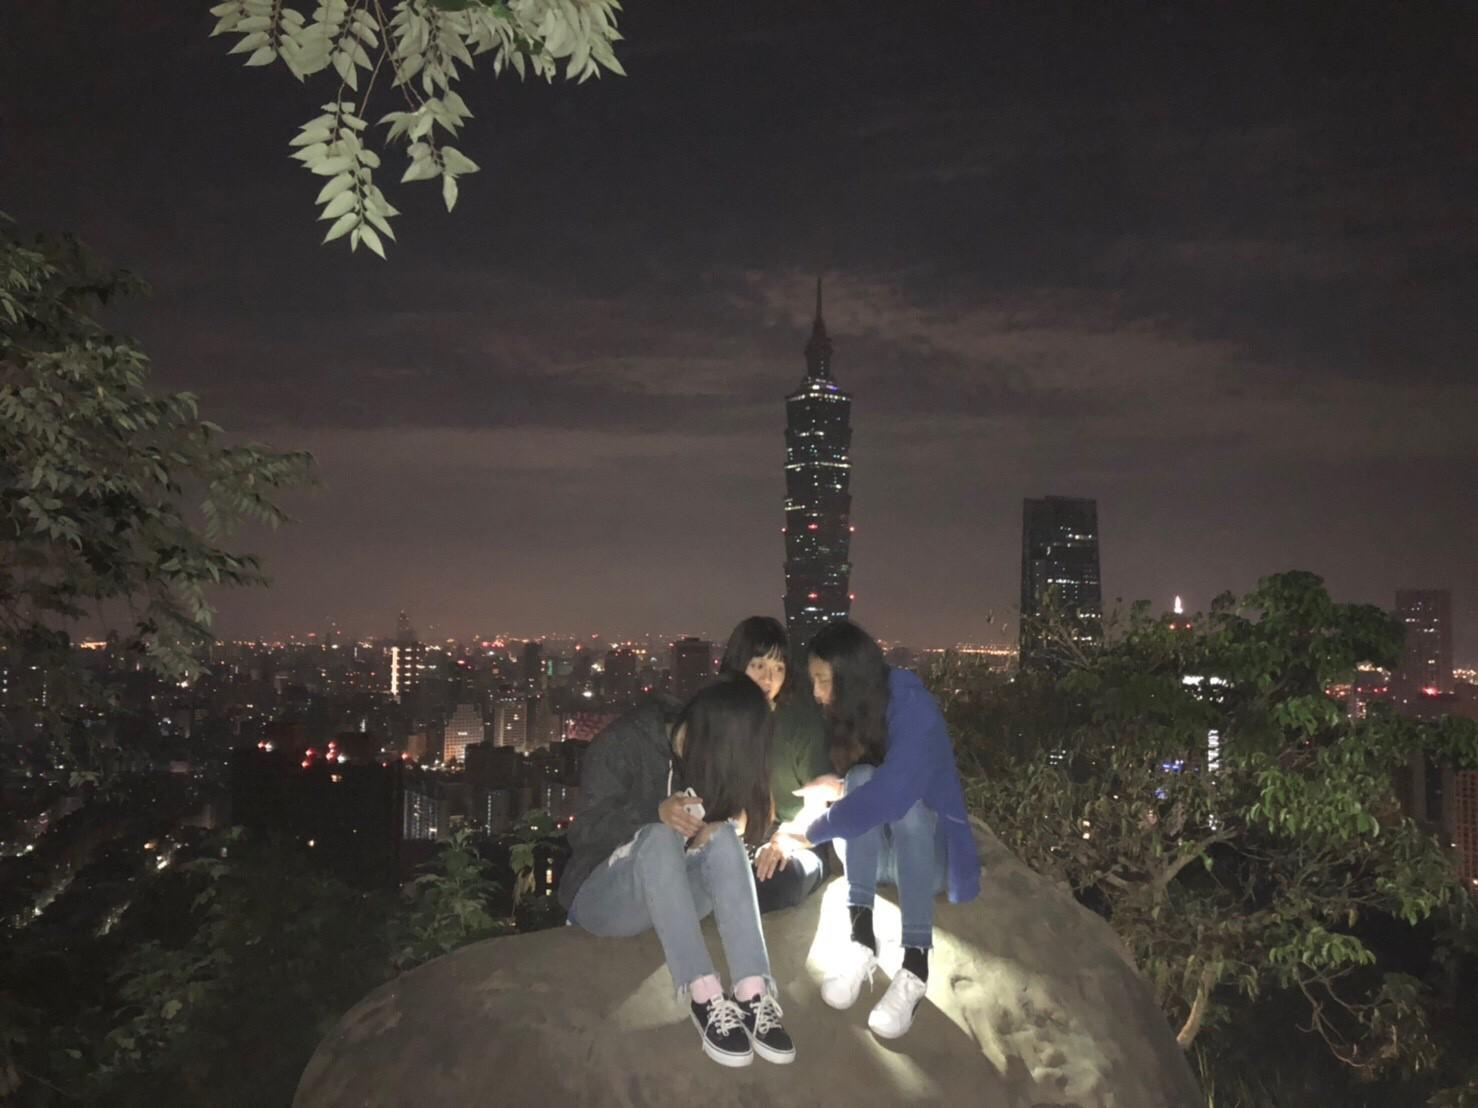people: (569, 680, 798, 1082), (806, 607, 973, 1063), (704, 617, 815, 894)
